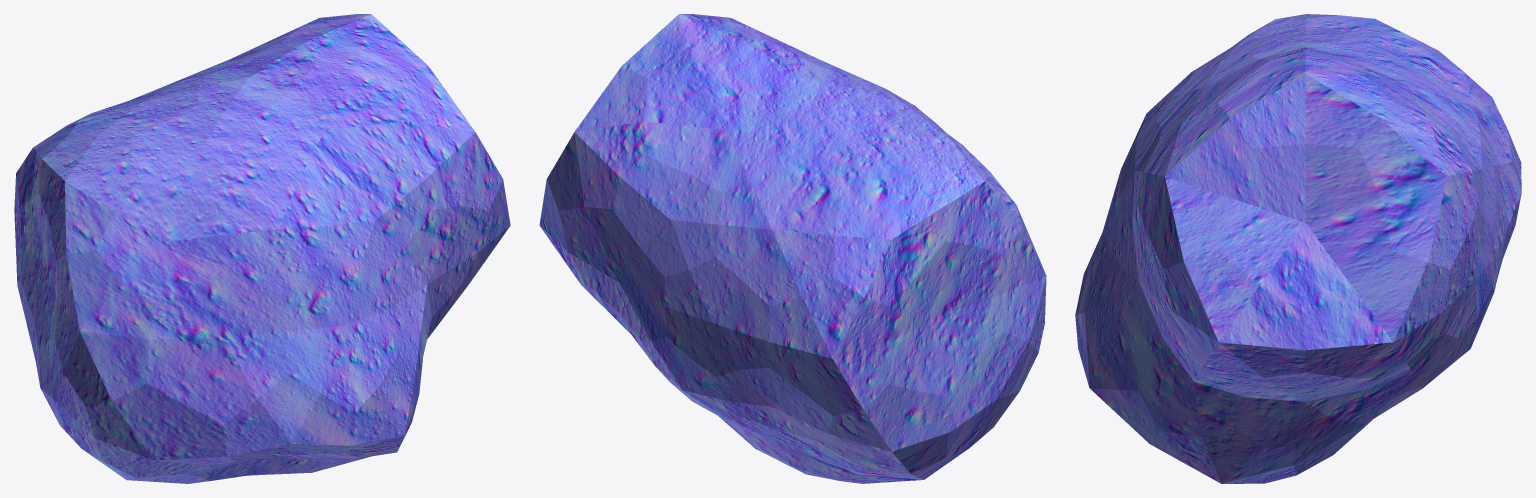
File: mediumasteroid15_LOD3.fbx
3 renders of one model, left to right at view 1: azimuth 30°, elevation 25°; view 2: azimuth 150°, elevation 25°; view 3: azimuth 270°, elevation 25°, orthographic. The views are drawn at different scales.
Visible parts, largest first — view 1: Icosphere; view 2: Icosphere; view 3: Icosphere.
Part boxes in pixels (x1,y1,x2,y2): Icosphere: (14,14,510,483); Icosphere: (539,14,1046,483); Icosphere: (1075,14,1521,483).
Bounding box in the file's own units: 257 × 243 × 216.
